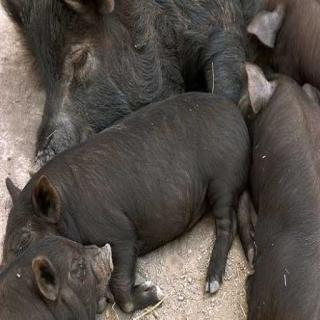Pig: (0, 112, 261, 257), (0, 0, 242, 116), (241, 52, 319, 320), (0, 206, 115, 320)
